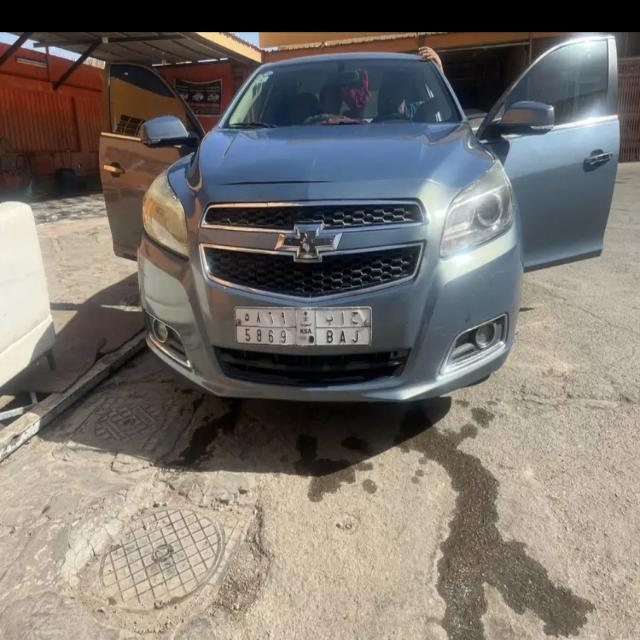license_plate: (234, 303, 374, 351)
